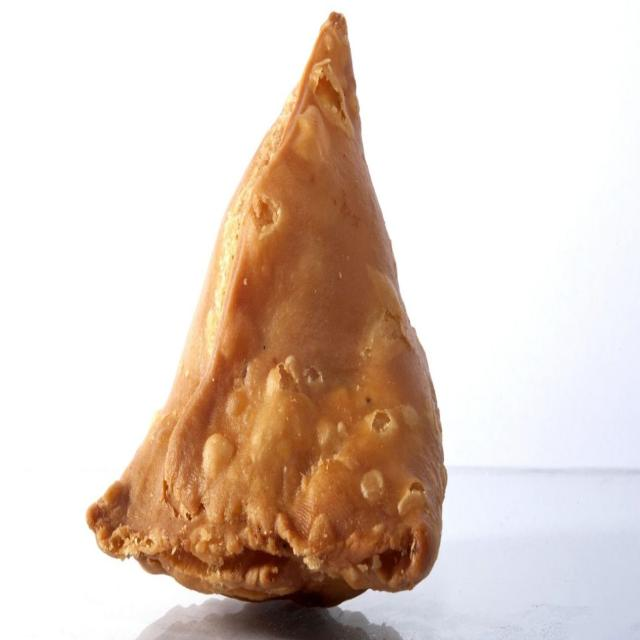samosa: (87, 5, 446, 606)
